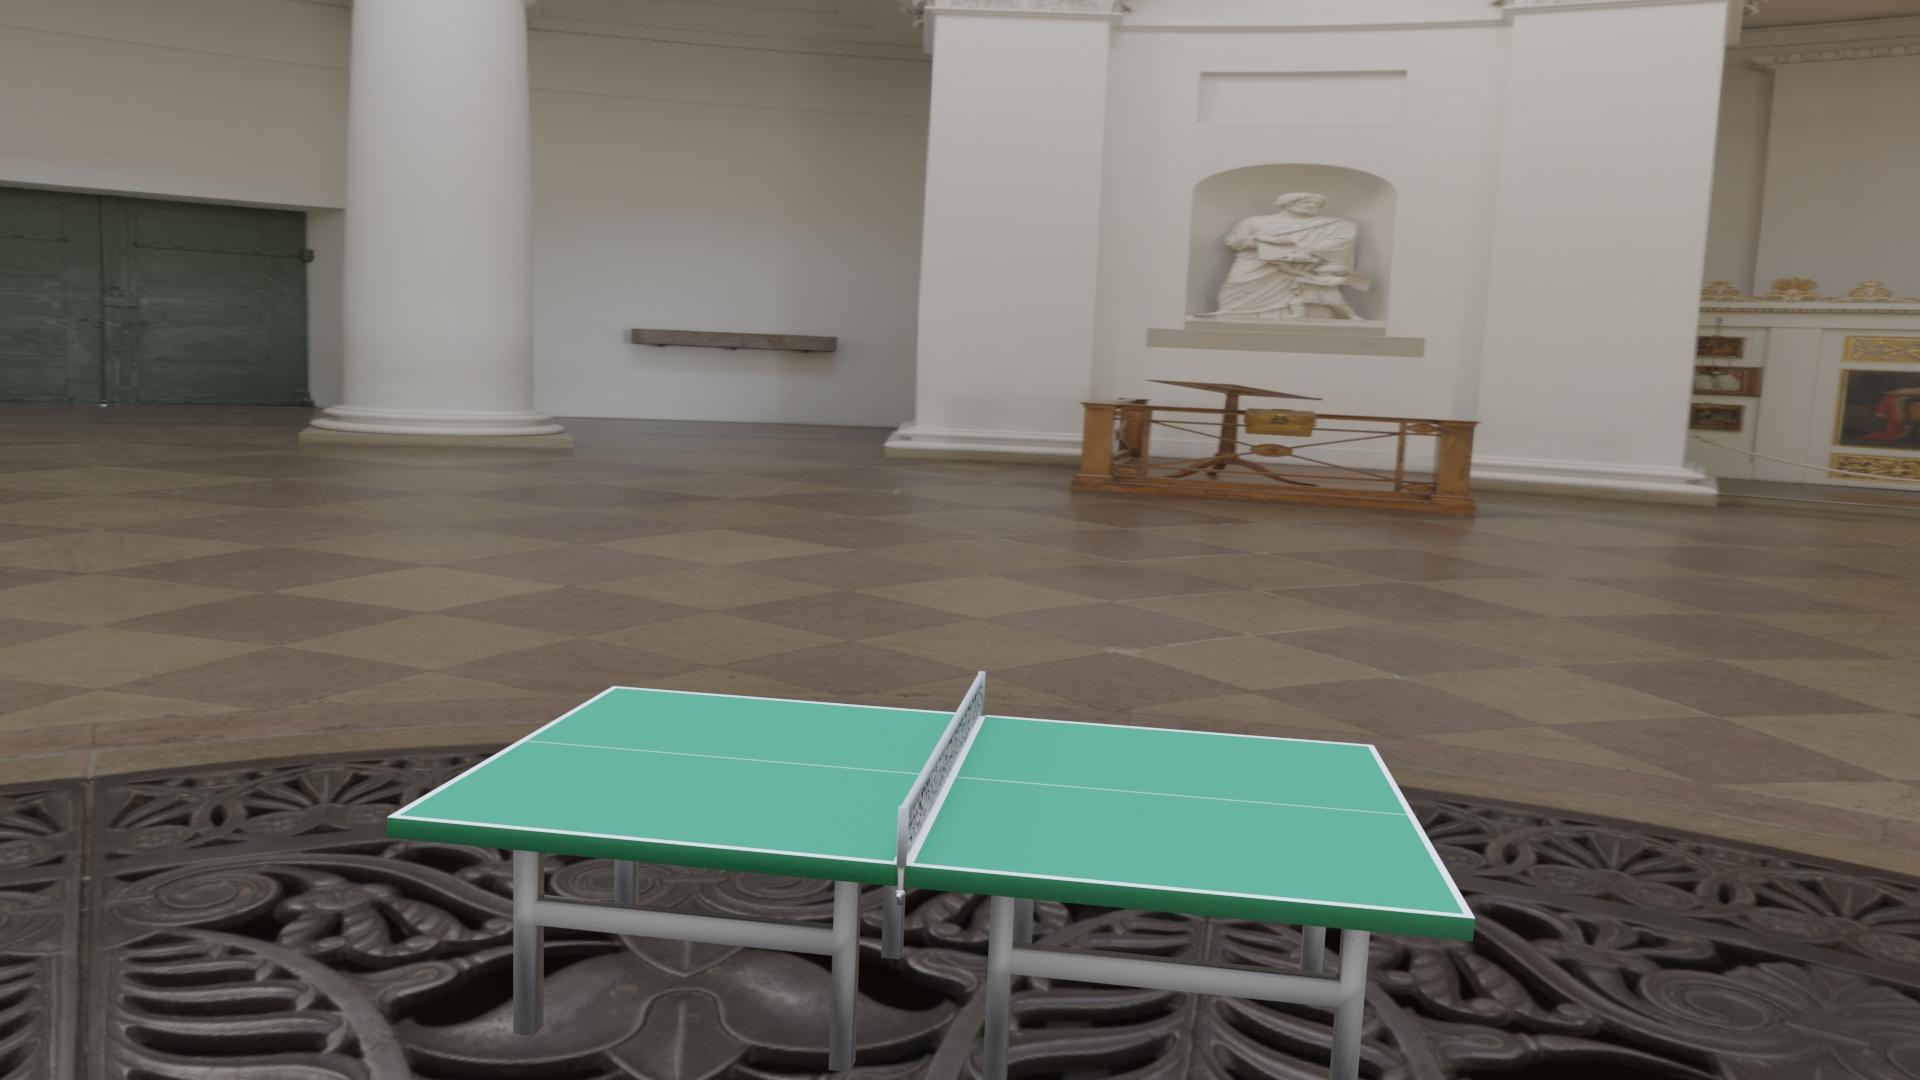table: (398, 688, 1464, 914)
